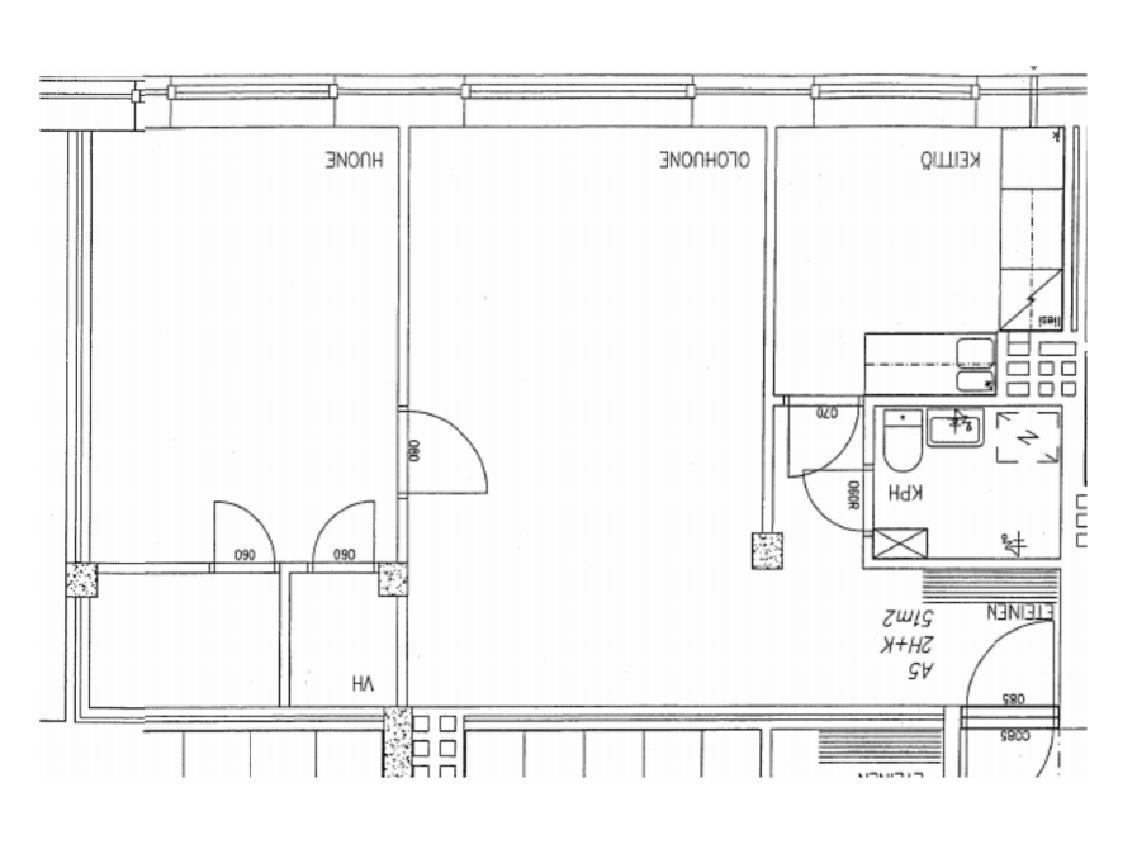door: (947, 601, 1064, 787), (397, 414, 488, 496), (789, 396, 866, 477), (804, 465, 876, 549), (314, 493, 376, 580), (209, 497, 274, 577)
zone: (413, 123, 1058, 700), (95, 131, 391, 562), (779, 124, 1059, 397), (81, 569, 281, 709), (874, 408, 1055, 558), (295, 565, 393, 700)
